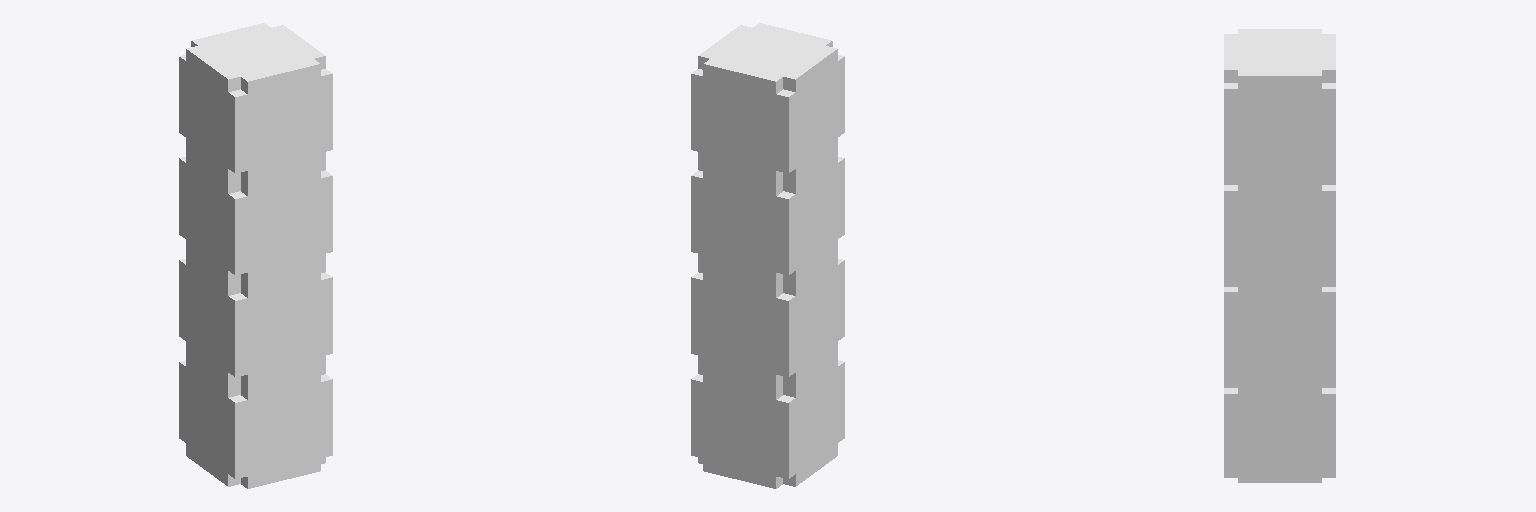
File: tetris_i.obj
3 renders of one model, left to right at view 1: azimuth 30°, elevation 25°; view 2: azimuth 150°, elevation 25°; view 3: azimuth 270°, elevation 25°, orthographic.
Visible parts, largest first — view 1: object 1; view 2: object 1; view 3: object 1.
Boxes of the visible parts, <box> form: object 1: <box>179,23,332,488</box>; object 1: <box>691,23,844,488</box>; object 1: <box>1224,29,1335,482</box>.
Bounding box in the file's own units: 0.8 × 3.2 × 0.8.